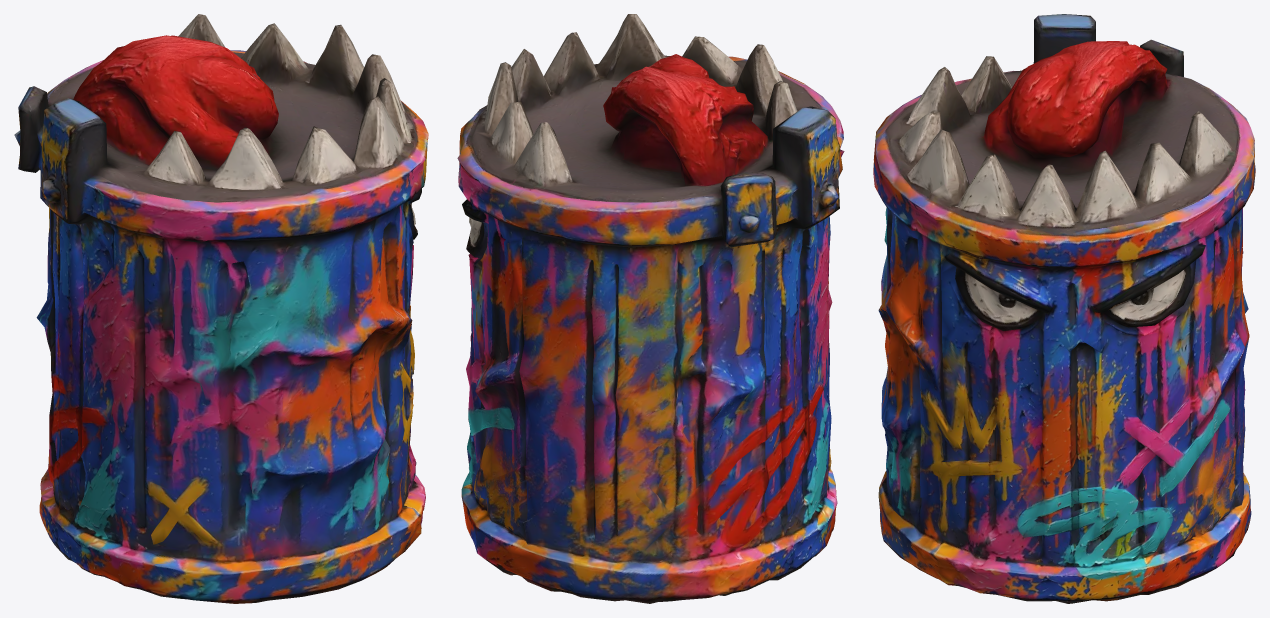
The model's file is chomper_bin_body.glb.
3 renders of one model, left to right at view 1: azimuth 30°, elevation 25°; view 2: azimuth 150°, elevation 25°; view 3: azimuth 270°, elevation 25°, orthographic. The views are drawn at different scales.
Parts seen in each view (by area): view 1: chomper_bin_body; view 2: chomper_bin_body; view 3: chomper_bin_body.
Part boxes in pixels (<box>): chomper_bin_body: <box>14,14,428,603</box>; chomper_bin_body: <box>457,14,844,603</box>; chomper_bin_body: <box>873,14,1255,603</box>.
Bounding box in the file's own units: 0.8584 × 1.1 × 0.8216.
1 material, 1 textured.
